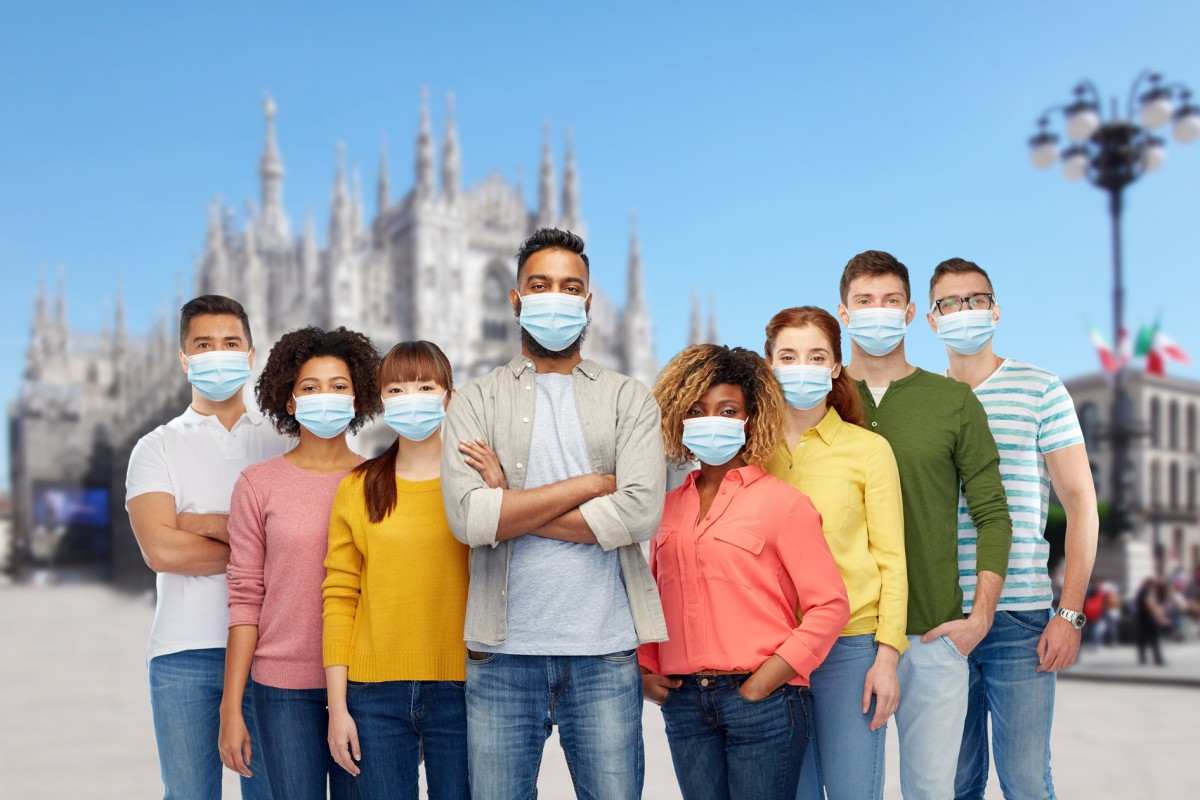with_mask: (843, 270, 902, 342), (191, 322, 245, 390), (525, 275, 578, 338), (772, 336, 837, 386), (295, 367, 354, 421), (691, 392, 742, 454), (930, 278, 991, 329), (387, 370, 441, 422)
